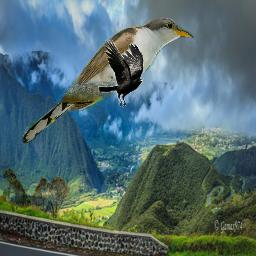Crow: (98, 39, 144, 109)
Cuckoo: (19, 16, 198, 145)
